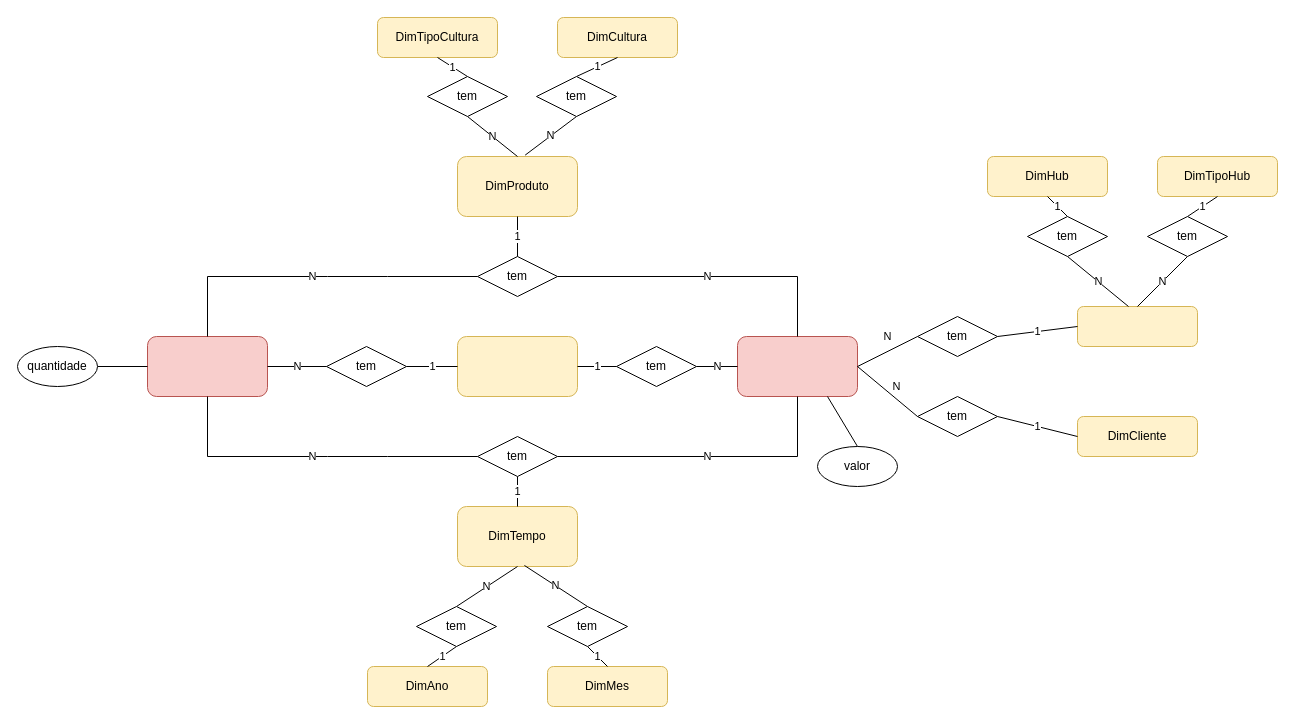
Image size: 1295x724. Some labels were removed from this diagram. The centre of each missing label's shape, as x and y in pixels:
"DimLocalRecolha" goes at pixel 1137 326.
"DimSetor" goes at pixel 517 366.
"FactProducao" goes at pixel 207 366.
"FactVendas" goes at pixel 797 366.
